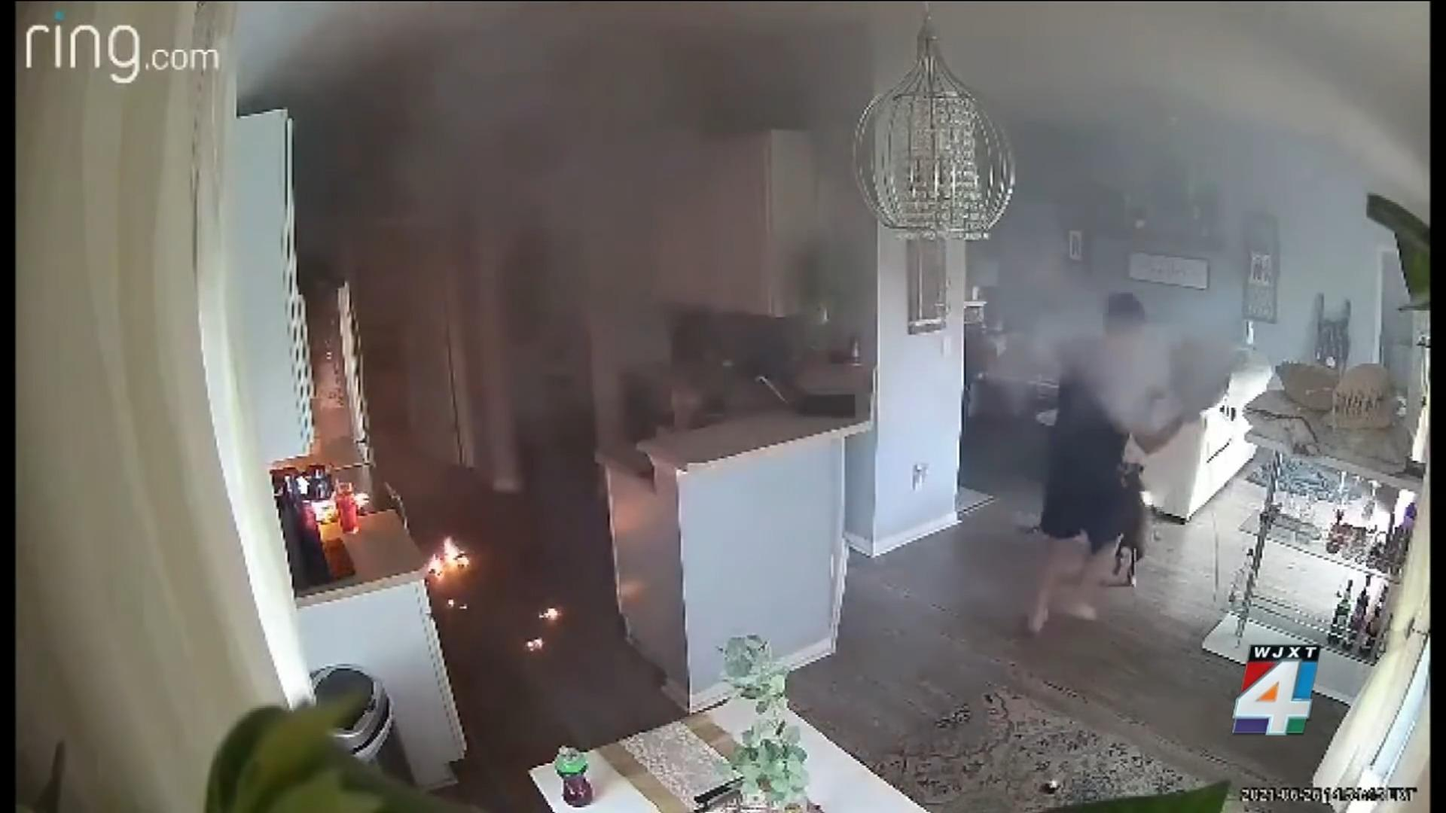fire: (427, 535, 469, 574), (539, 607, 558, 619), (527, 638, 542, 651)
